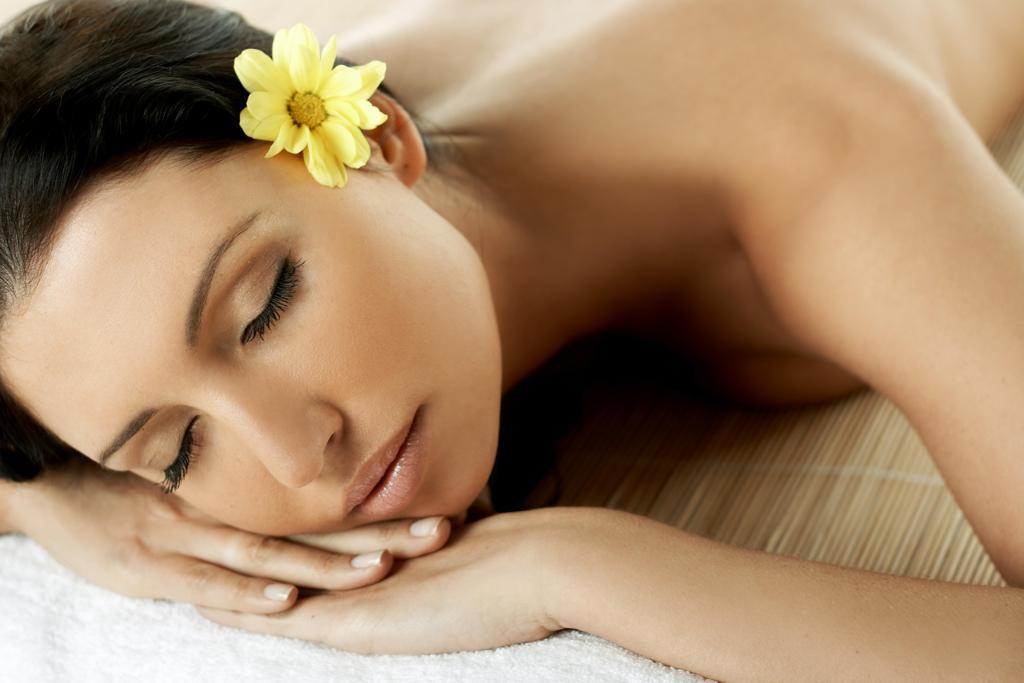face: (39, 197, 481, 525)
